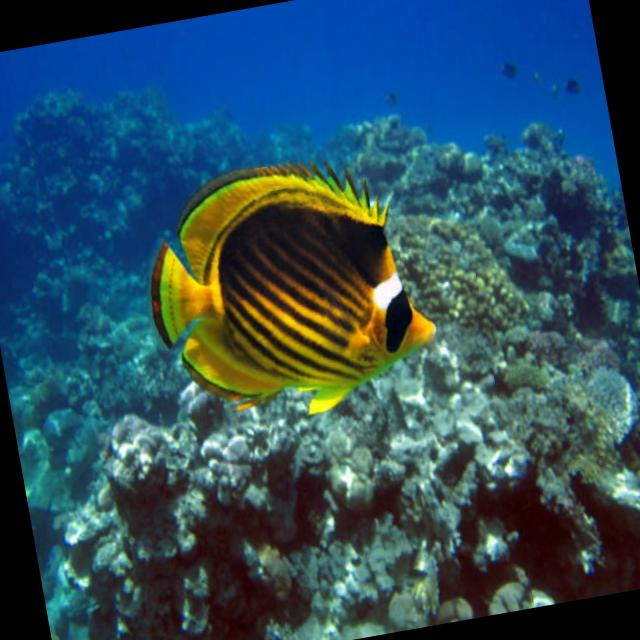ButterflyFish: (129, 137, 440, 446)
